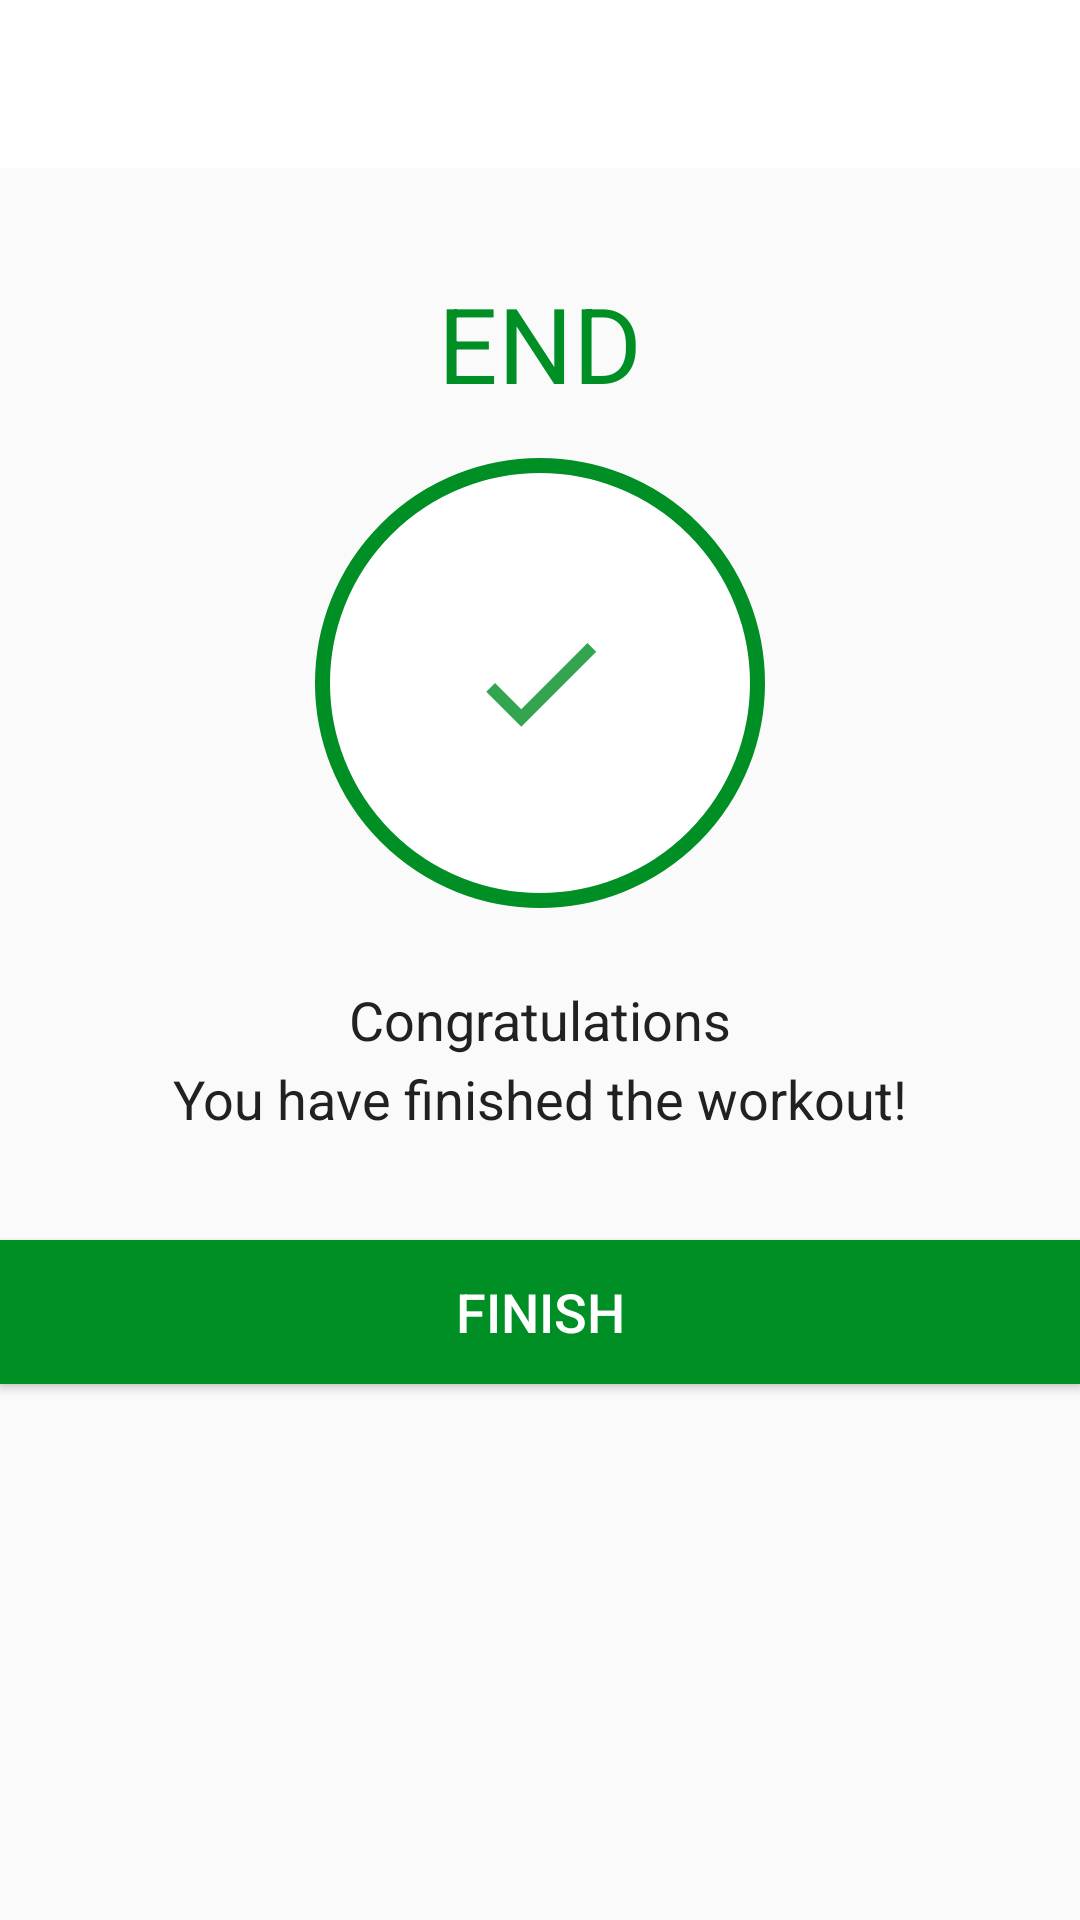

Point at icon controls on the screen. Image size 1080*1920, points as (x=x, y=y).
done: (x=541, y=685)
